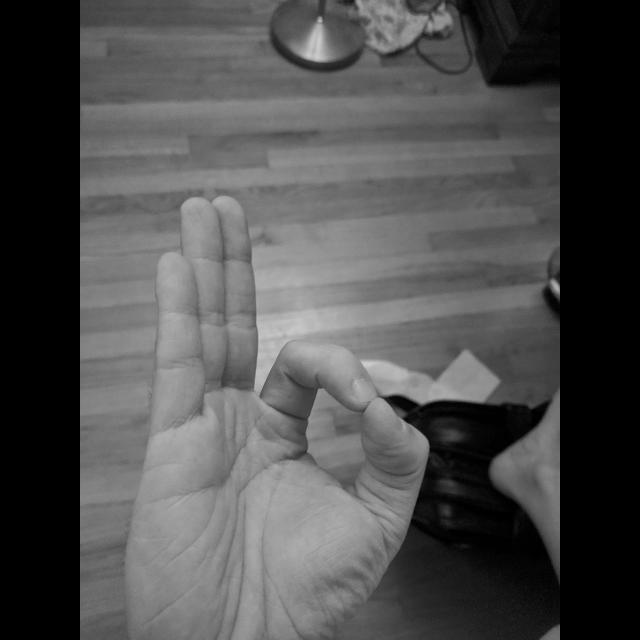F: (117, 187, 436, 639)
